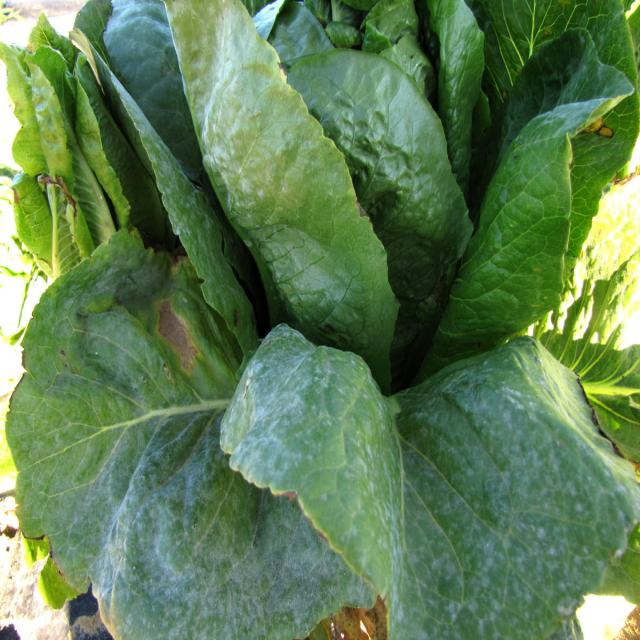Powdery_Mildew: (309, 343, 577, 617), (83, 342, 281, 626)
